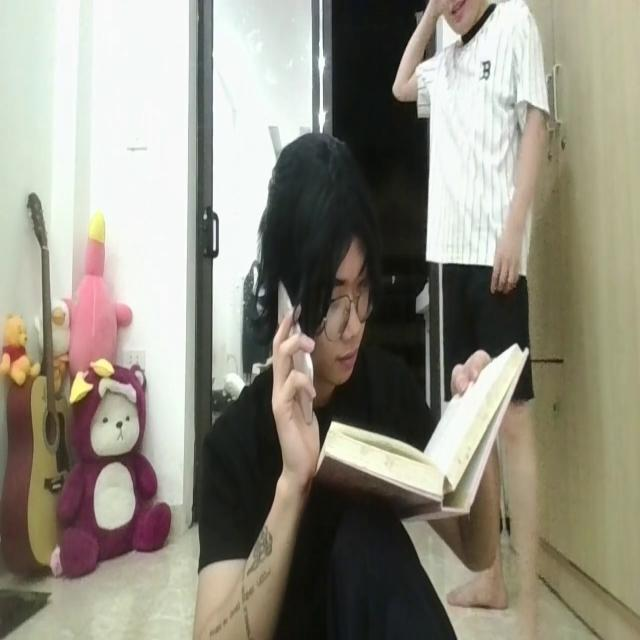book: (318, 338, 532, 533)
extra_person: (394, 2, 572, 640)
phone: (274, 277, 317, 430)
student: (197, 124, 496, 640)
